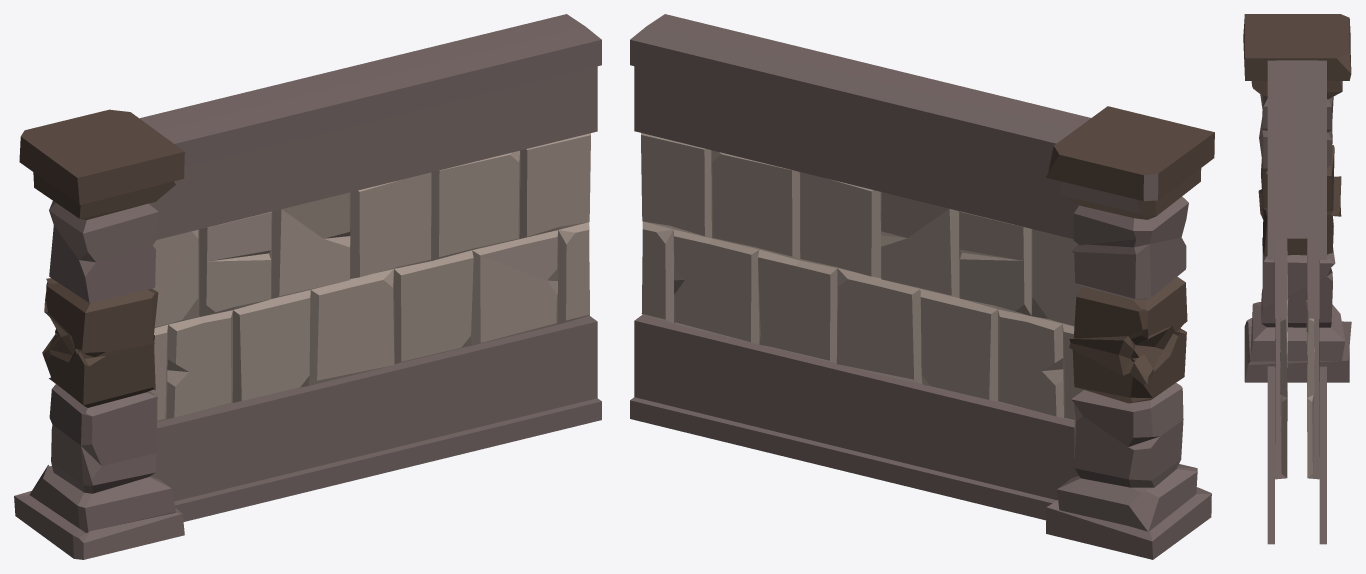
Rendered from Wall1MD.fbx.
3 views of the same model, side by side, from view 1: azimuth 30°, elevation 25°; view 2: azimuth 150°, elevation 25°; view 3: azimuth 270°, elevation 25° (orthographic). The views are drawn at different scales.
Visible parts, largest first — view 1: Pillar1.011; view 2: Pillar1.011; view 3: Pillar1.011.
Boxes of the visible parts, <box> form: Pillar1.011: <box>14,14,601,559</box>; Pillar1.011: <box>630,14,1214,559</box>; Pillar1.011: <box>1243,14,1351,544</box>.
Size of the model in its own units: 91.69 by 303 by 445.
